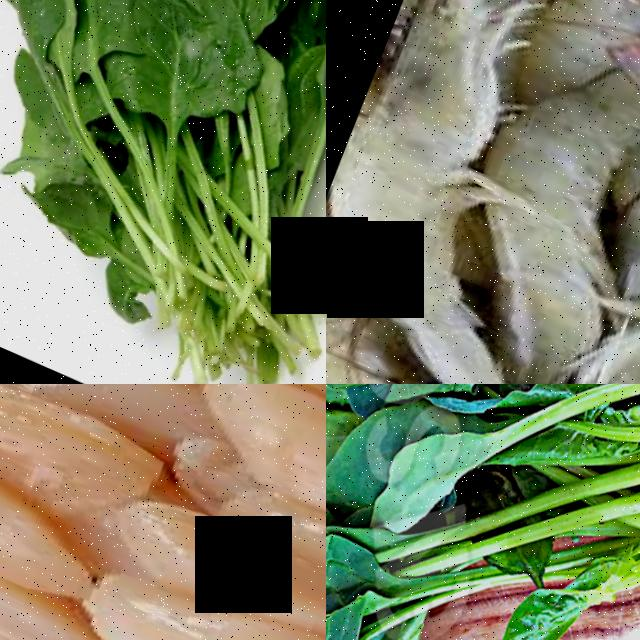sea scallops: (91, 476, 326, 640), (61, 544, 326, 640), (183, 384, 326, 540)
shrimp: (326, 0, 570, 357), (434, 54, 640, 349)
spinach: (326, 384, 481, 554), (96, 0, 261, 138), (15, 176, 119, 264), (36, 0, 148, 75), (484, 569, 593, 640), (0, 0, 88, 58), (202, 0, 294, 35)
